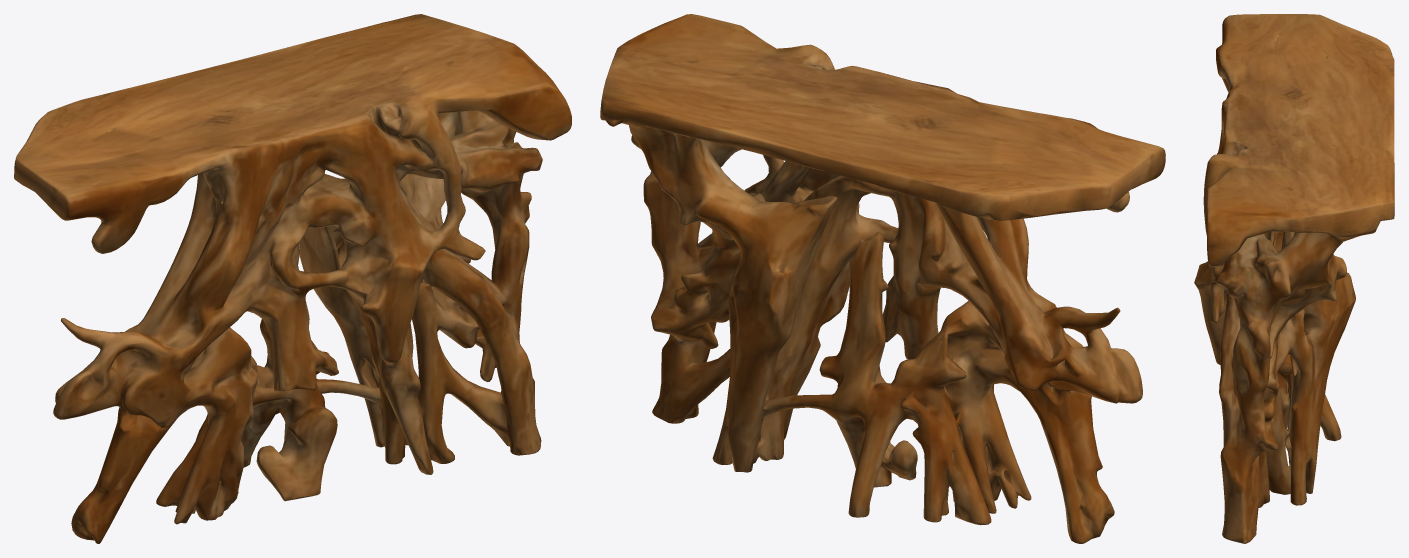
Rendered from teak-root-console.glb.
3 views of the same model, side by side, from view 1: azimuth 30°, elevation 25°; view 2: azimuth 150°, elevation 25°; view 3: azimuth 270°, elevation 25° (orthographic). The views are drawn at different scales.
Visible parts, largest first — view 1: world; view 2: world; view 3: world.
Part boxes in pixels (x1,y1,x2,y2): world: [14, 14, 571, 543]; world: [600, 14, 1165, 543]; world: [1194, 14, 1394, 543].
Bounding box in the file's own units: 1 × 0.7223 × 0.3985.
Materials: 1 (1 with a texture image).
